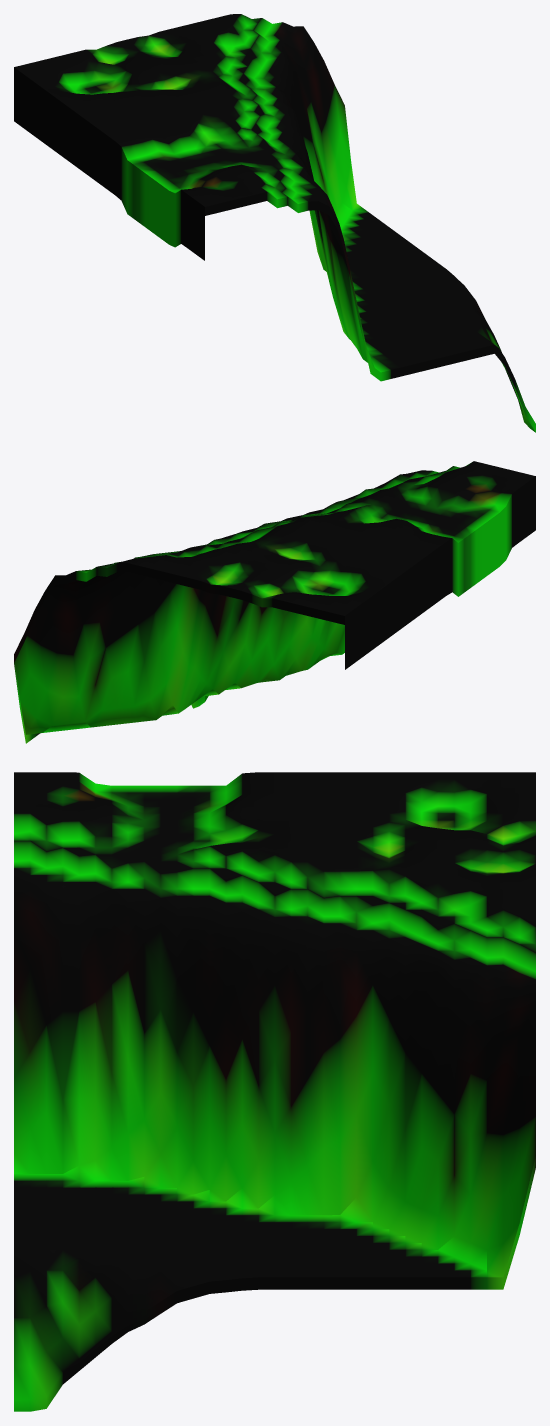
File: Terrain_02_07.fbx
3 renders of one model, top to bottom at view 1: azimuth 30°, elevation 25°; view 2: azimuth 150°, elevation 25°; view 3: azimuth 270°, elevation 25°, orthographic. The views are drawn at different scales.
Parts seen in each view (by area): view 1: Terrain_02_07_LOD0; view 2: Terrain_02_07_LOD0; view 3: Terrain_02_07_LOD0.
Part boxes in pixels (box(x1,y1,x2,y2)): Terrain_02_07_LOD0: box(14, 14, 535, 432); Terrain_02_07_LOD0: box(14, 461, 535, 743); Terrain_02_07_LOD0: box(14, 772, 535, 1411).
Size of what is drawn, in the model's own units: 384 by 340 by 384.
